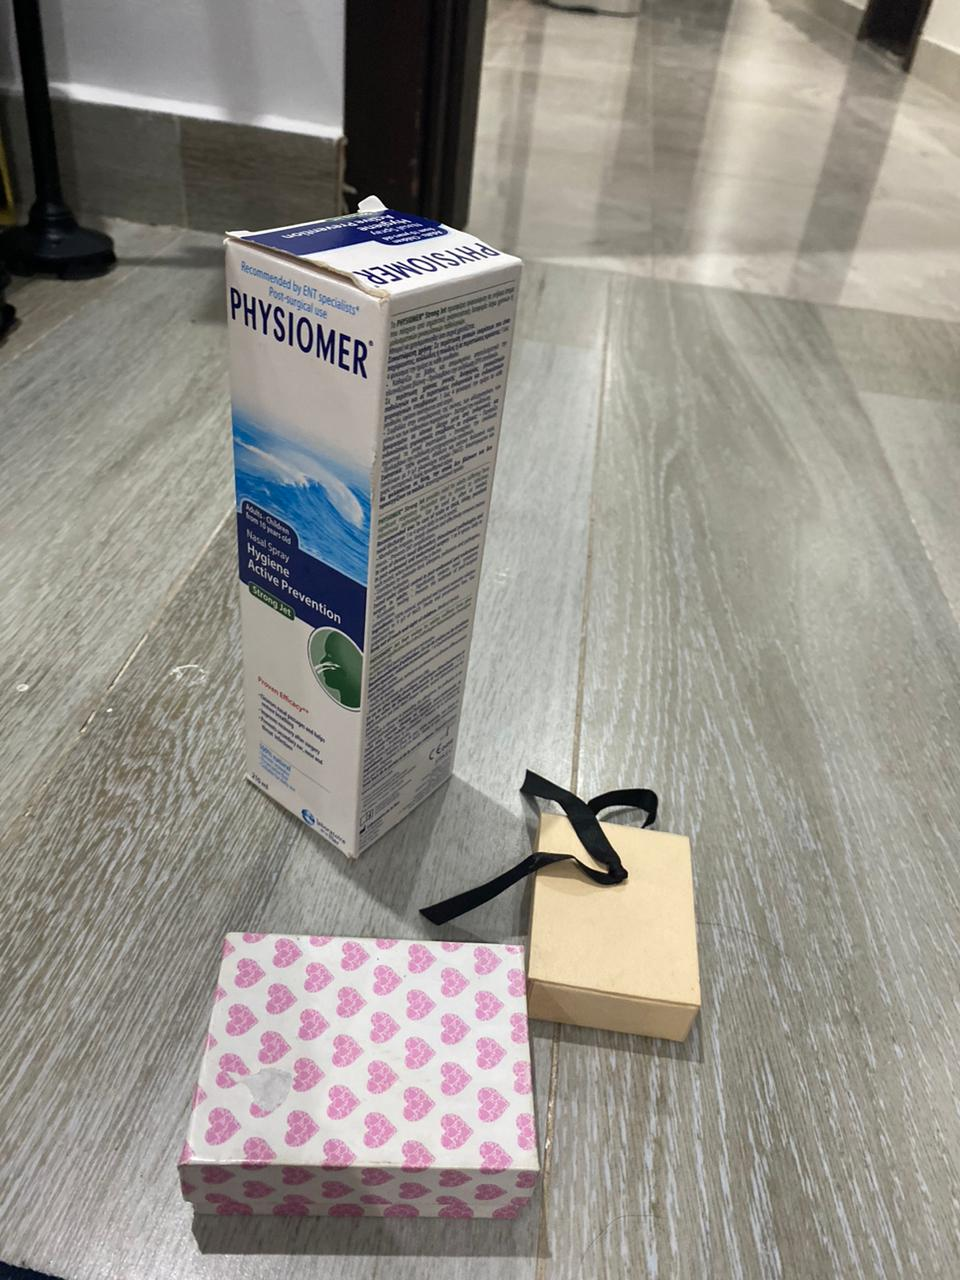Physiomer: (219, 193, 528, 863)
Pink Box: (168, 926, 550, 1230)
Yellow Box: (530, 801, 706, 1052)
